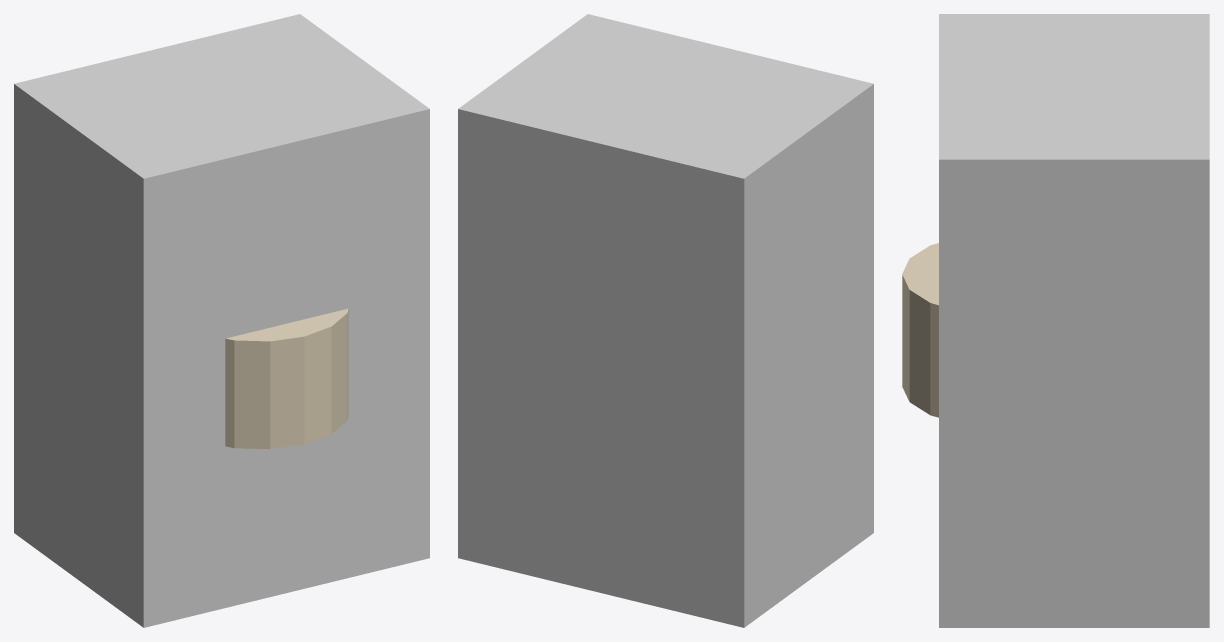
File: wall-sconce_basic.glb
The picture shows the model from 3 angles, left to right: view 1: azimuth 30°, elevation 25°; view 2: azimuth 150°, elevation 25°; view 3: azimuth 270°, elevation 25°; orthographic projection. The views are drawn at different scales.
Visible parts, largest first — view 1: COL_wall-sconce, MESH_Shade; view 2: COL_wall-sconce; view 3: COL_wall-sconce, MESH_Shade.
Boxes of the visible parts, x1,y1,x2,y2 form: COL_wall-sconce: (14, 14, 429, 627); MESH_Shade: (225, 308, 348, 449); COL_wall-sconce: (458, 14, 873, 627); COL_wall-sconce: (939, 14, 1209, 627); MESH_Shade: (902, 243, 938, 417).
Bounding box in the file's own units: 0.28 × 0.42 × 0.25.
